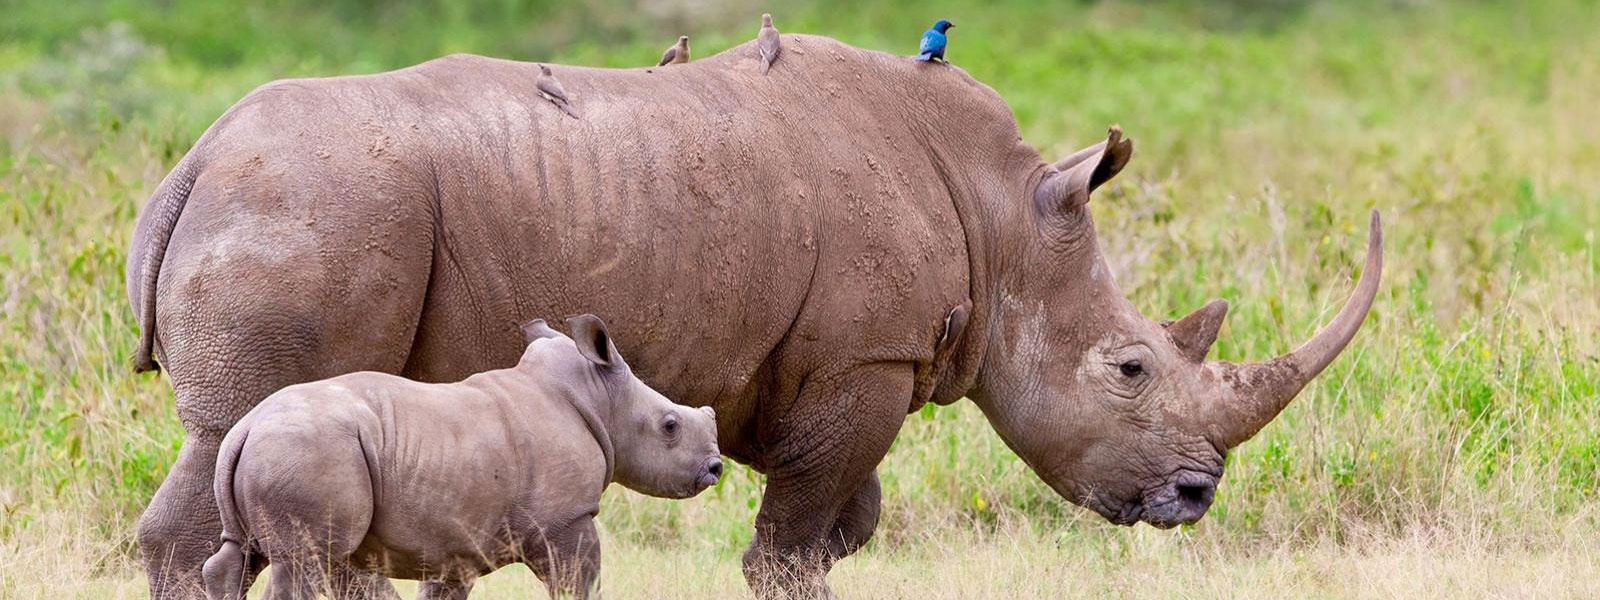rhino: (120, 30, 1381, 600), (215, 321, 720, 599)
